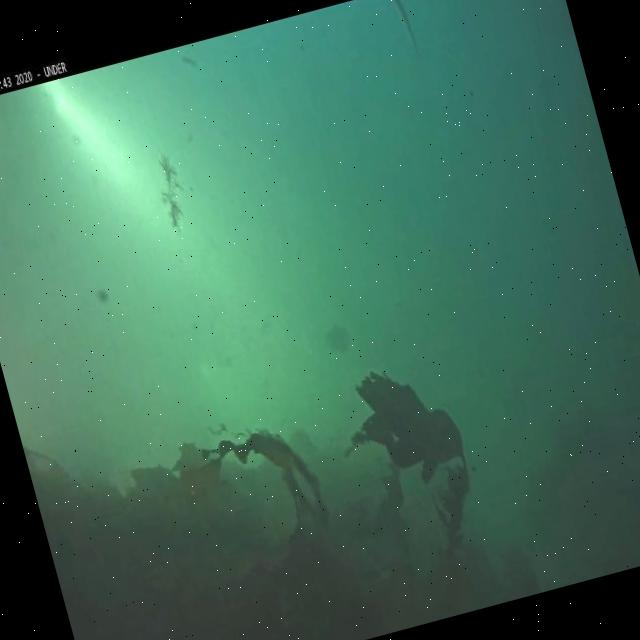fish: (385, 0, 424, 60)
